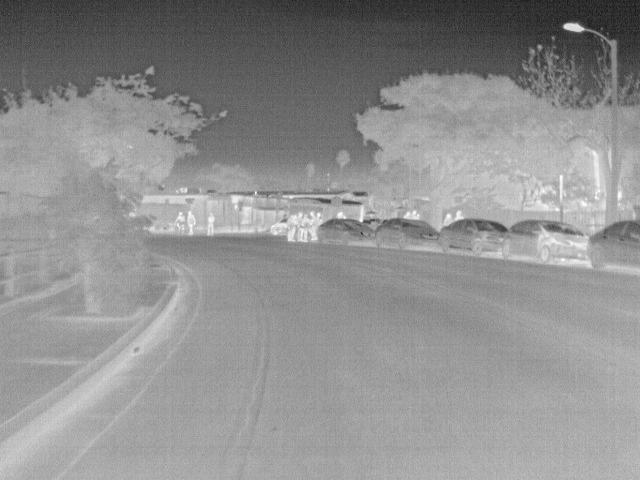car: (498, 220, 588, 262), (587, 220, 638, 273), (436, 219, 512, 254), (374, 218, 438, 250), (315, 218, 378, 244), (269, 216, 288, 238)
person: (294, 212, 312, 241), (285, 214, 299, 242), (184, 207, 197, 236), (175, 208, 188, 234), (204, 211, 216, 236), (441, 210, 454, 228), (313, 210, 325, 229), (452, 209, 465, 222)
